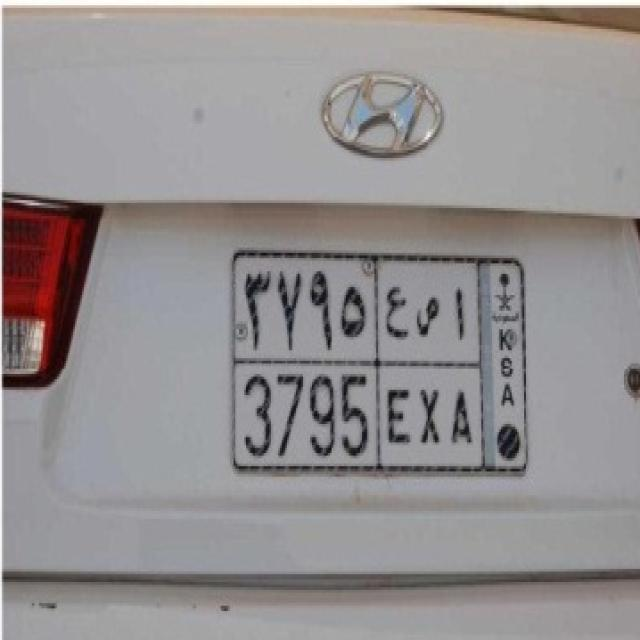license_plate: (228, 356, 488, 483)
